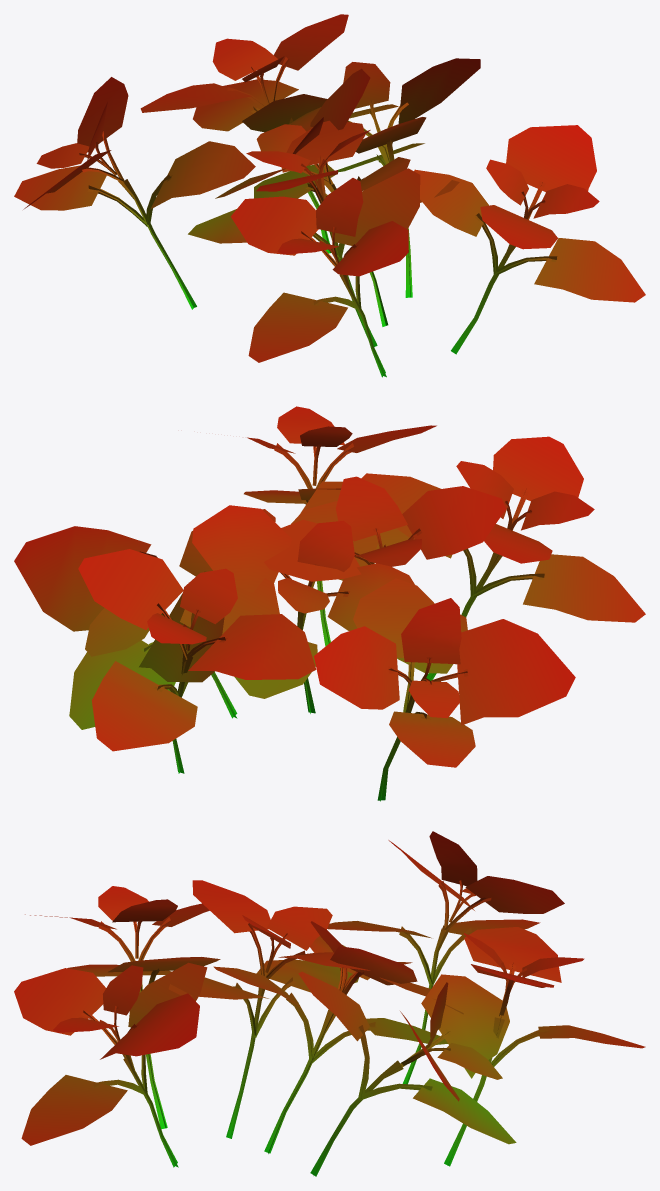
File: Yellow Archangel_LOD1_Var9_wcwmcfvia.fbx
3 renders of one model, top to bottom at view 1: azimuth 30°, elevation 25°; view 2: azimuth 150°, elevation 25°; view 3: azimuth 270°, elevation 25°, orthographic. The views are drawn at different scales.
Visible parts, largest first — view 1: _z9rr_Var9_LOD1; view 2: _z9rr_Var9_LOD1; view 3: _z9rr_Var9_LOD1.
Part boxes in pixels (bbox=[...]): _z9rr_Var9_LOD1: bbox=[14, 14, 645, 377]; _z9rr_Var9_LOD1: bbox=[14, 406, 645, 801]; _z9rr_Var9_LOD1: bbox=[14, 831, 645, 1176].
Size of the model in its own units: 10.24 by 4.36 by 11.28.
